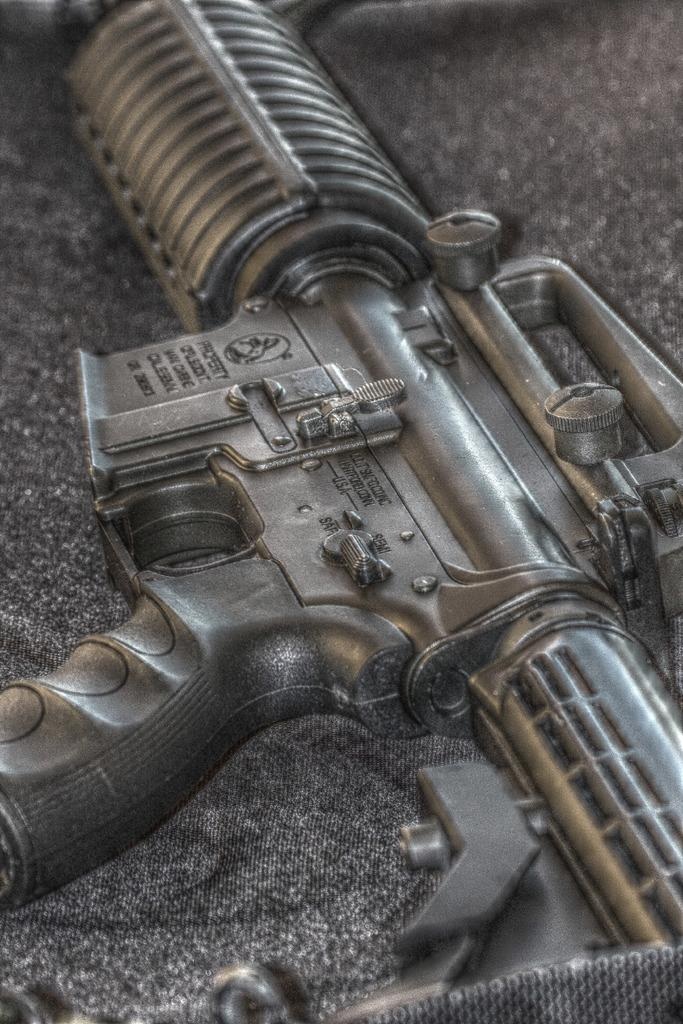Rifle: (0, 4, 636, 920)
